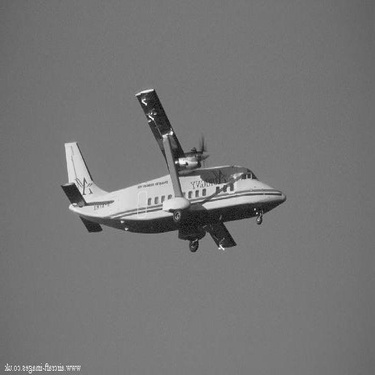airplane: (35, 71, 296, 266)
